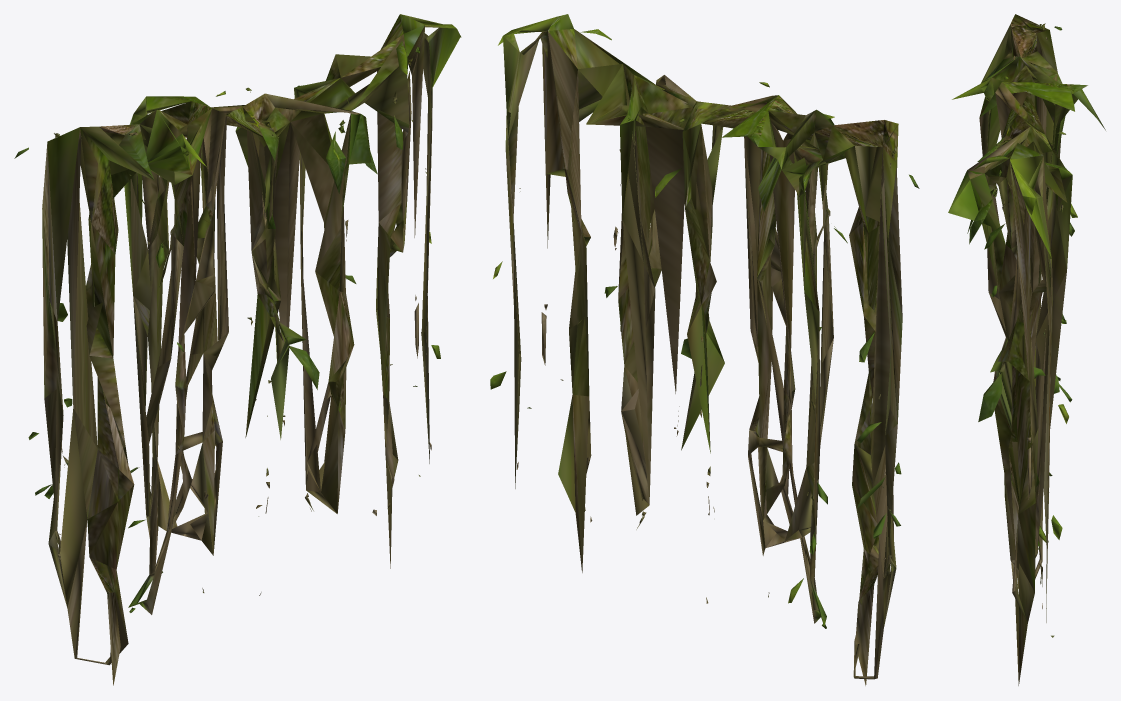
The model's file is VEG_CortinaLianas_01_LOD2.fbx.
3 renders of one model, left to right at view 1: azimuth 30°, elevation 25°; view 2: azimuth 150°, elevation 25°; view 3: azimuth 270°, elevation 25°, orthographic.
Visible parts, largest first — view 1: VEG_CortinaLianas_01_Mesh000; view 2: VEG_CortinaLianas_01_Mesh000; view 3: VEG_CortinaLianas_01_Mesh000.
Part boxes in pixels (x1=…): VEG_CortinaLianas_01_Mesh000: x1=14, y1=14, x2=461, y2=685; VEG_CortinaLianas_01_Mesh000: x1=490, y1=14, x2=919, y2=685; VEG_CortinaLianas_01_Mesh000: x1=948, y1=14, x2=1105, y2=685.
Bounding box in the file's own units: 2.65 × 3.5 × 0.8464.
